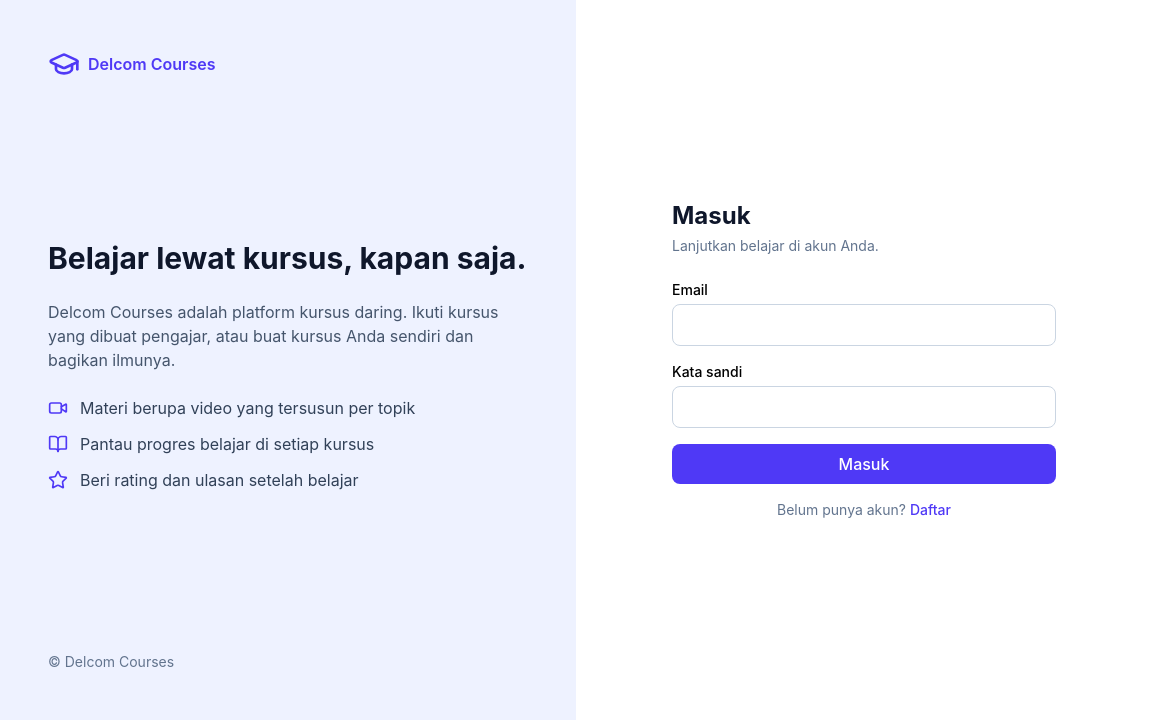
Test: LoginPage › menampilkan pesan error dan daftar field jika gagal
Type "a@b.c" into the field labelled "Email" at (864, 325), box x1=672 y1=304 x2=1056 y2=346
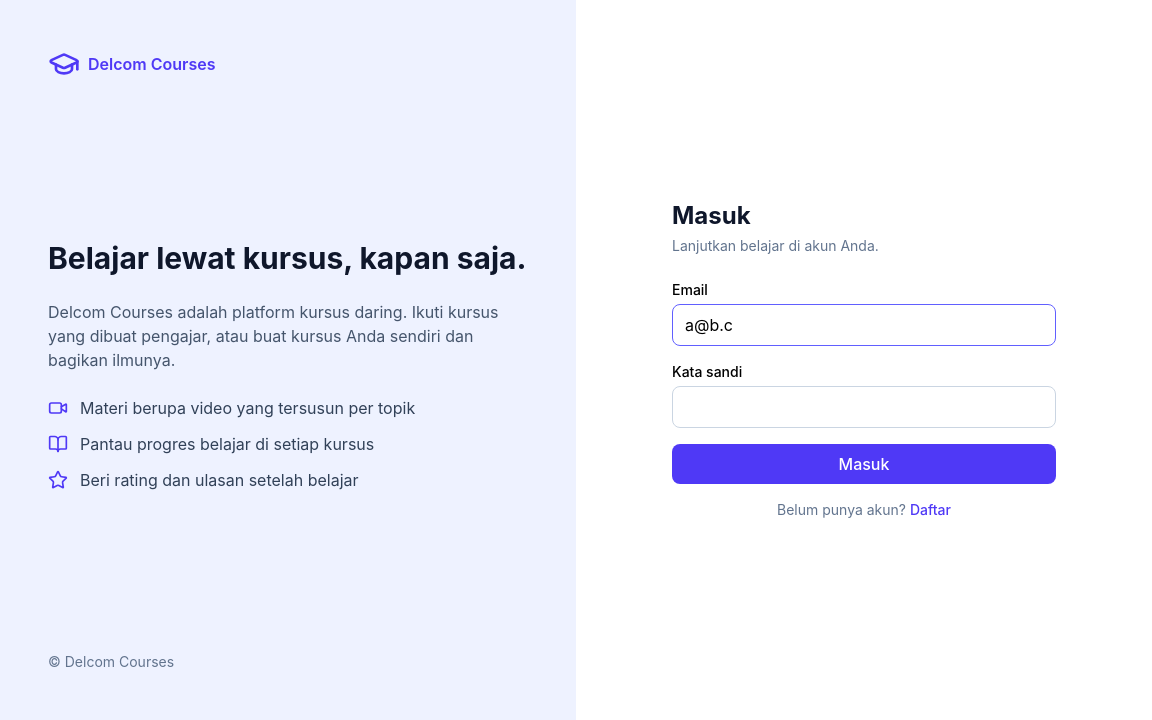
Type "salah" into the password field labelled "Kata sandi" at (864, 407), box x1=672 y1=386 x2=1056 y2=428
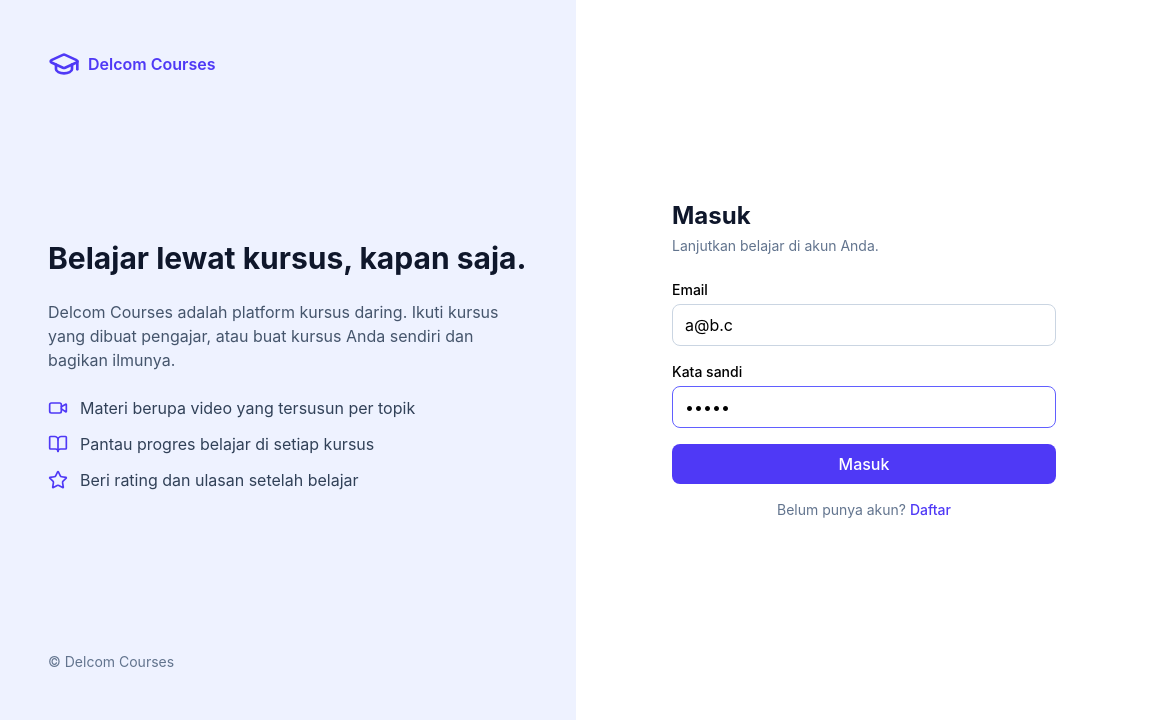
Click the button "Masuk" at (864, 464), box x1=672 y1=444 x2=1056 y2=484
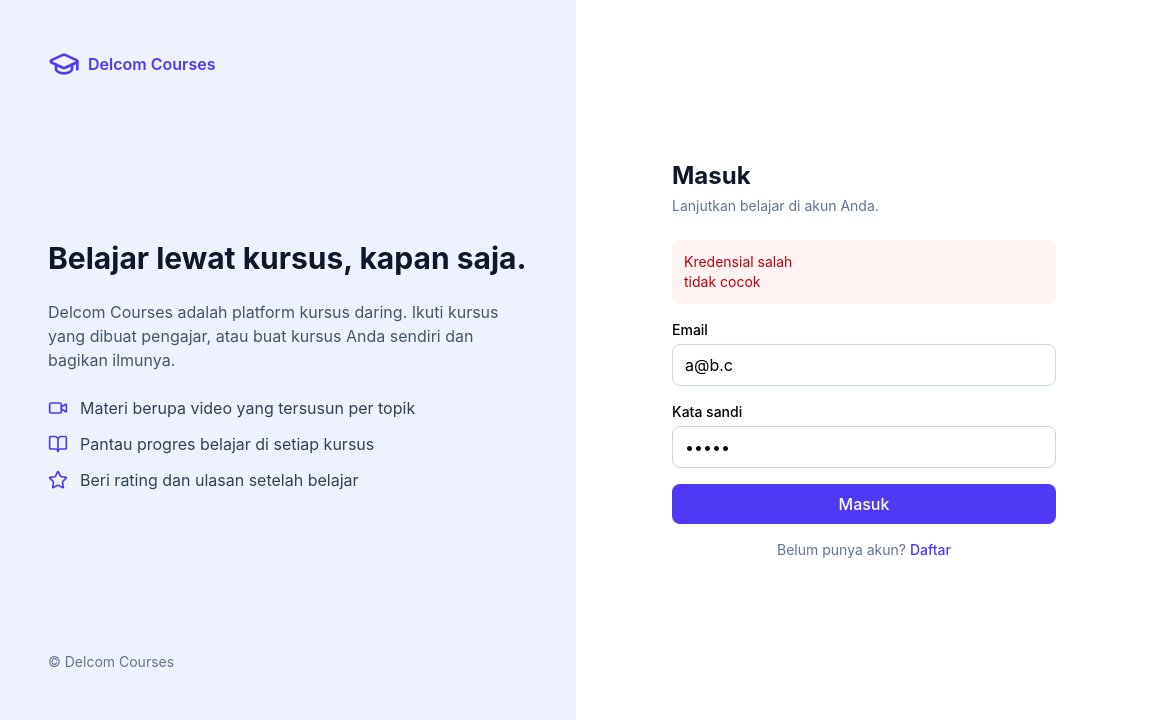
Check: the text "Kredensial salah" is shown, box x1=684 y1=253 x2=792 y2=270
Check: the text "tidak cocok" is shown, box x1=684 y1=273 x2=760 y2=290
